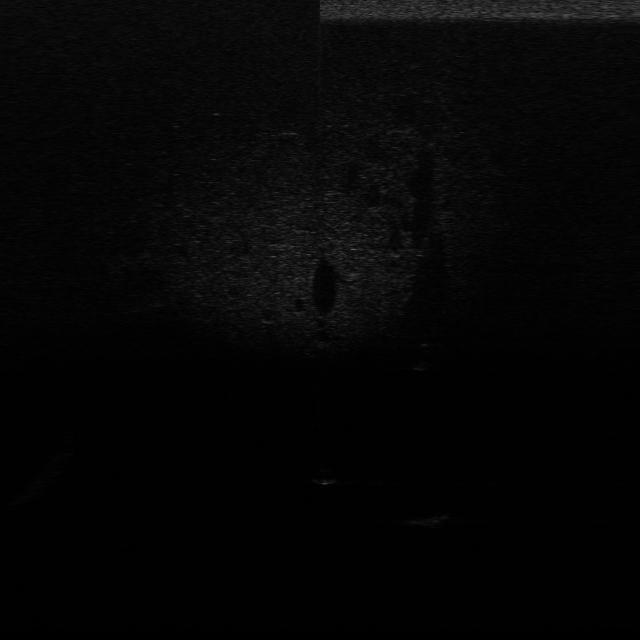ball: (313, 467, 337, 486)
square cage: (404, 510, 452, 530)
tyre: (411, 340, 438, 372)
